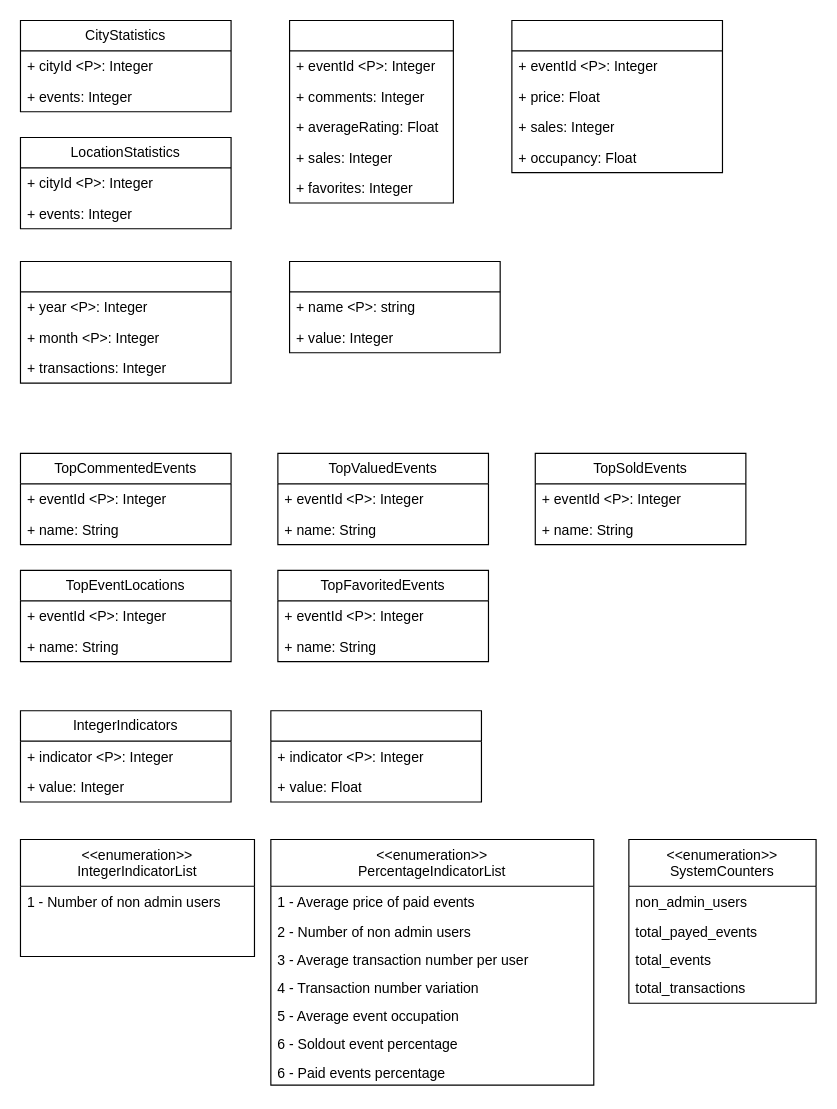
Some shapes in this 837 by 1109 pixel diagram are drawn without their labels. Each missing label, with the box of its shape:
EventStatistics: (288, 19, 453, 203)
EventWithSalesStatistics: (511, 19, 722, 173)
PercentageIndicators: (270, 710, 481, 802)
SystemCounters: (288, 260, 500, 353)
TransactionStatistics: (19, 260, 231, 383)
